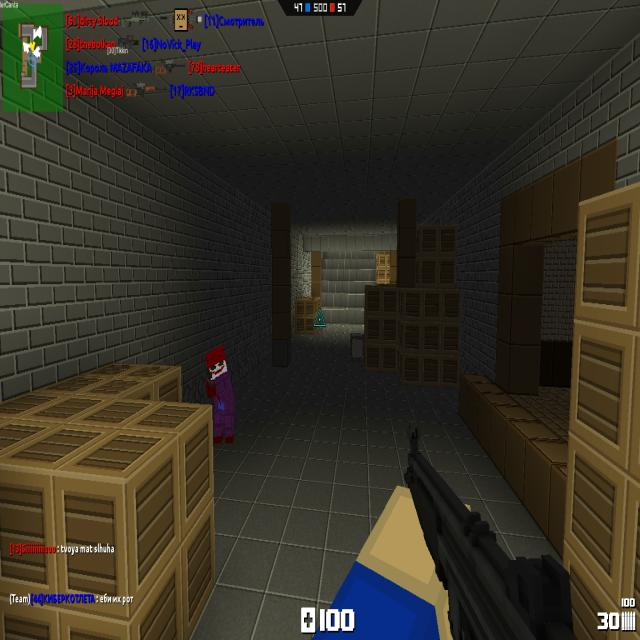enemy: (206, 344, 235, 444)
